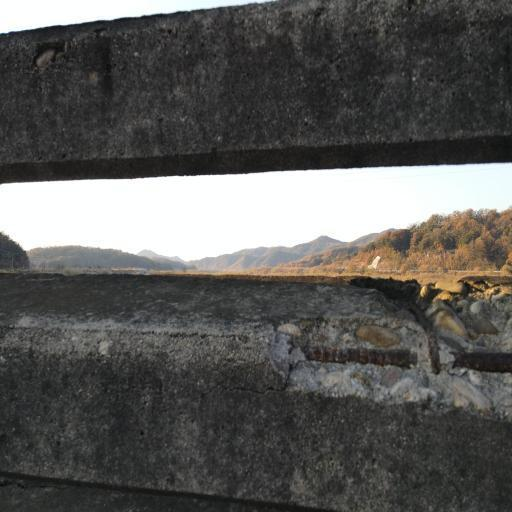exposed_rebar: (306, 347, 417, 368), (412, 306, 441, 373), (454, 352, 512, 373)
spalling: (270, 276, 512, 422), (0, 0, 270, 32)
